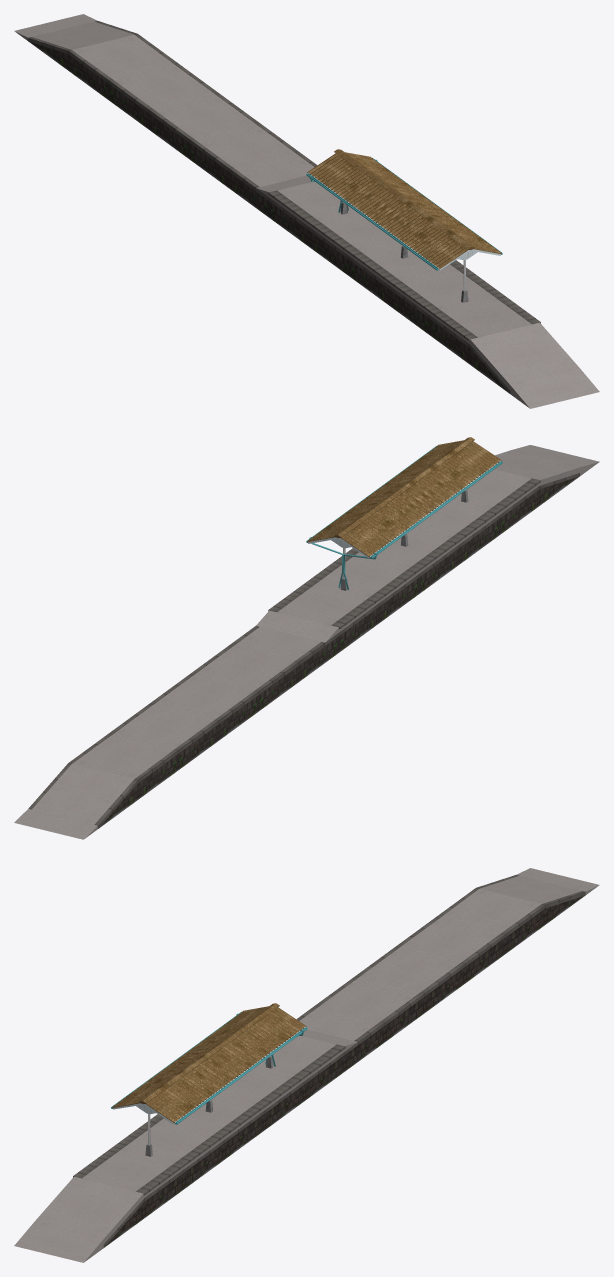
File: 田舎プラットホーム.fbx
3 views of the same model, one above another, from view 1: azimuth 30°, elevation 25°; view 2: azimuth 150°, elevation 25°; view 3: azimuth 330°, elevation 25° (orthographic).
Parts seen in each view (by area): view 1: 田舎プラットホーム延長, 田舎プラットホーム嵩上げ, 屋根, 田舎プラットホーム嵩上げ入り口, 田舎プラットホーム入り口, 田舎プラットホーム端, 田舎プラットホーム乗降口1, 田舎プラットホーム乗降口, 雨どい; view 2: 田舎プラットホーム延長, 田舎プラットホーム嵩上げ, 屋根, 田舎プラットホーム端, 田舎プラットホーム入り口, 田舎プラットホーム嵩上げ入り口, 田舎プラットホーム乗降口1, 田舎プラットホーム嵩上げ延長部, 雨どい, 田舎プラットホーム乗降口; view 3: 田舎プラットホーム延長, 田舎プラットホーム嵩上げ, 屋根, 田舎プラットホーム嵩上げ入り口, 田舎プラットホーム入り口, 田舎プラットホーム端, 田舎プラットホーム乗降口, 田舎プラットホーム乗降口1, 雨どい.
Boxes of the visible parts, x1,y1,x2,y2 form: 田舎プラットホーム延長: (68,34,317,217); 田舎プラットホーム嵩上げ: (269,182,531,344); 屋根: (307,149,501,269); 田舎プラットホーム嵩上げ入り口: (470,322,599,408); 田舎プラットホーム入り口: (269,198,523,403); 田舎プラットホーム端: (14,14,137,70); 田舎プラットホーム乗降口1: (268,190,477,341); 田舎プラットホーム乗降口: (450,260,540,324); 雨どい: (306,157,502,270); 田舎プラットホーム延長: (69,626,338,799); 田舎プラットホーム嵩上げ: (269,469,539,632); 屋根: (307,437,501,556); 田舎プラットホーム端: (14,763,137,839); 田舎プラットホーム入り口: (339,469,586,652); 田舎プラットホーム嵩上げ入り口: (495,445,599,485); 田舎プラットホーム乗降口1: (331,478,540,628); 田舎プラットホーム嵩上げ延長部: (256,610,338,642); 雨どい: (306,446,502,589); 田舎プラットホーム乗降口: (268,548,358,611); 田舎プラットホーム延長: (296,888,545,1071); 田舎プラットホーム嵩上げ: (82,1036,344,1198); 屋根: (112,1003,306,1123); 田舎プラットホーム嵩上げ入り口: (14,1176,143,1262); 田舎プラットホーム入り口: (90,1052,344,1257); 田舎プラットホーム端: (476,868,599,924); 田舎プラットホーム乗降口: (136,1044,345,1195); 田舎プラットホーム乗降口1: (73,1114,163,1178); 雨どい: (111,1011,307,1124).
Bounding box in the file's own units: 4.12 × 4.66 × 51.43.
7 materials, 7 textured.
